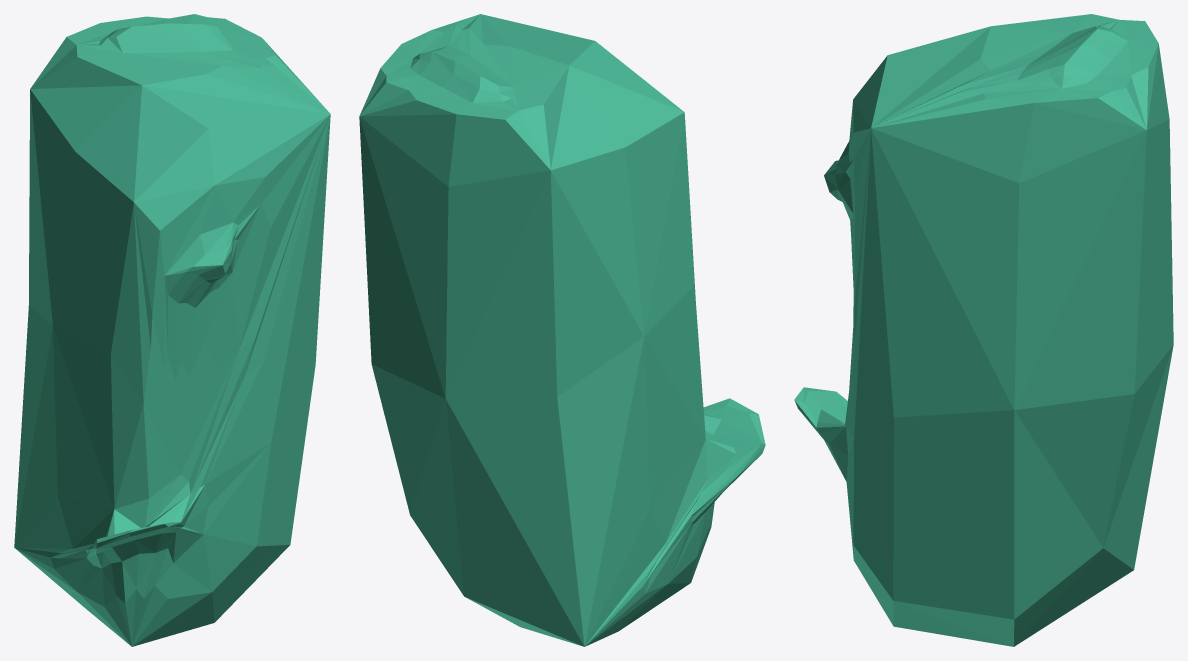
The picture shows the model from 3 angles, left to right: view 1: azimuth 30°, elevation 25°; view 2: azimuth 150°, elevation 25°; view 3: azimuth 270°, elevation 25°; orthographic projection. The views are drawn at different scales.
Visible parts, largest first — view 1: 611_Cube.2457; view 2: 611_Cube.2457; view 3: 611_Cube.2457.
Boxes of the visible parts, <box> form: 611_Cube.2457: <box>14,14,330,646</box>; 611_Cube.2457: <box>359,14,765,646</box>; 611_Cube.2457: <box>794,14,1173,646</box>.
Bounding box in the file's own units: 6.3 × 12.32 × 6.84.
